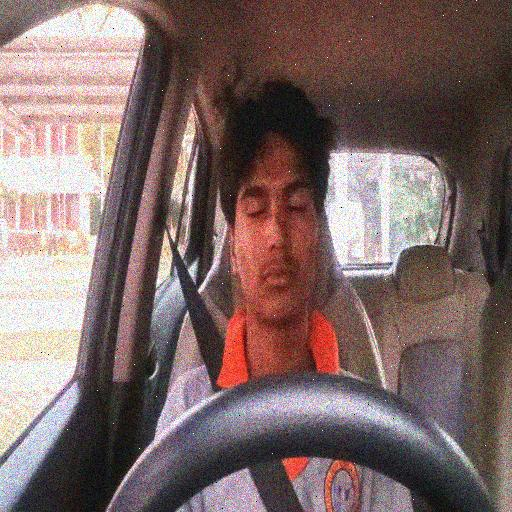sleepy: (226, 80, 325, 332)
